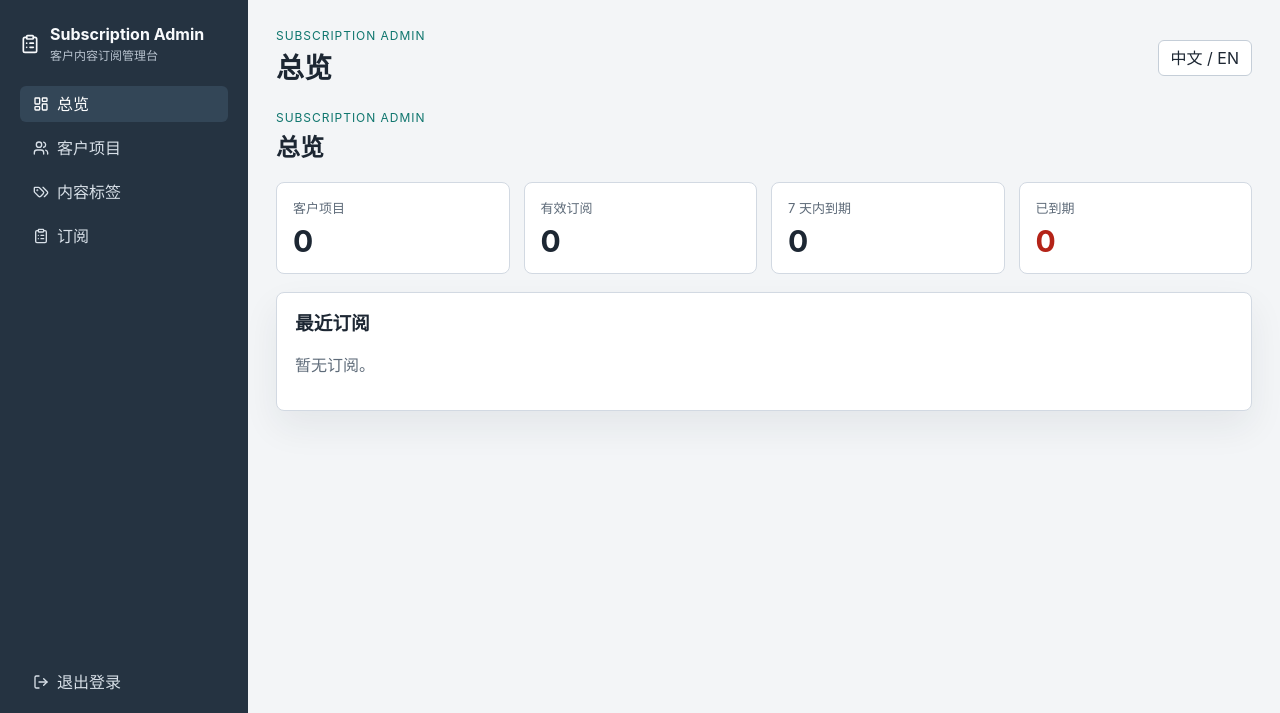
Test: filters subscriptions by search text and status while showing countdowns
The image size is (1280, 713).
Click the button "订阅".
click(124, 236)  # box [20,218,228,254]
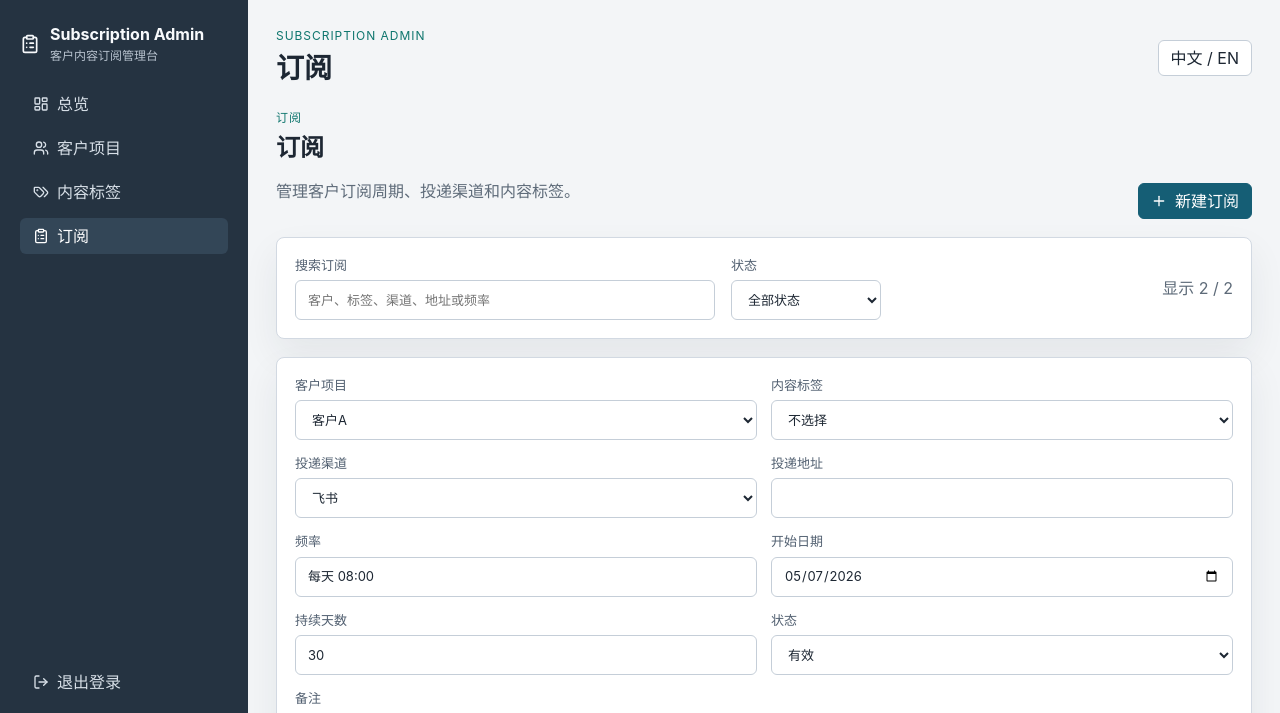
Type "飞书" into the field labelled "搜索订阅".
click(505, 300); type("飞书")  # box [295,280,715,320]
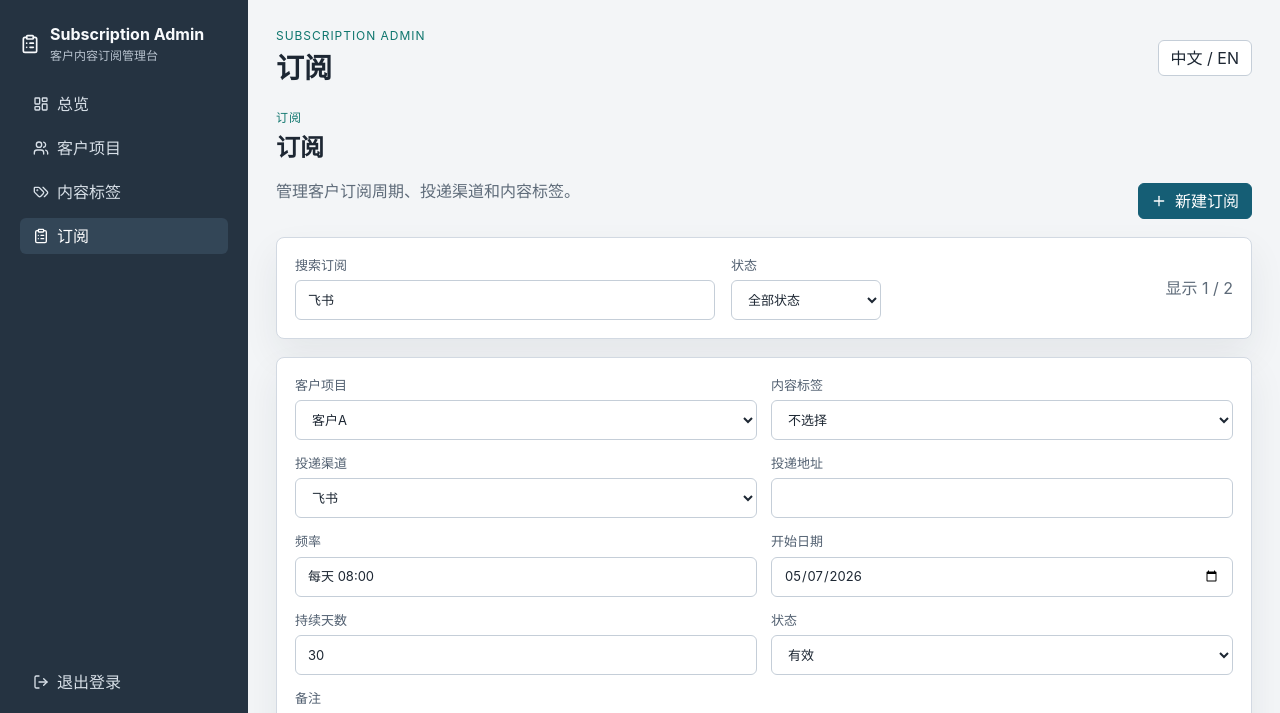
Clear the field labelled "搜索订阅" at (505, 300), box [295,280,715,320]
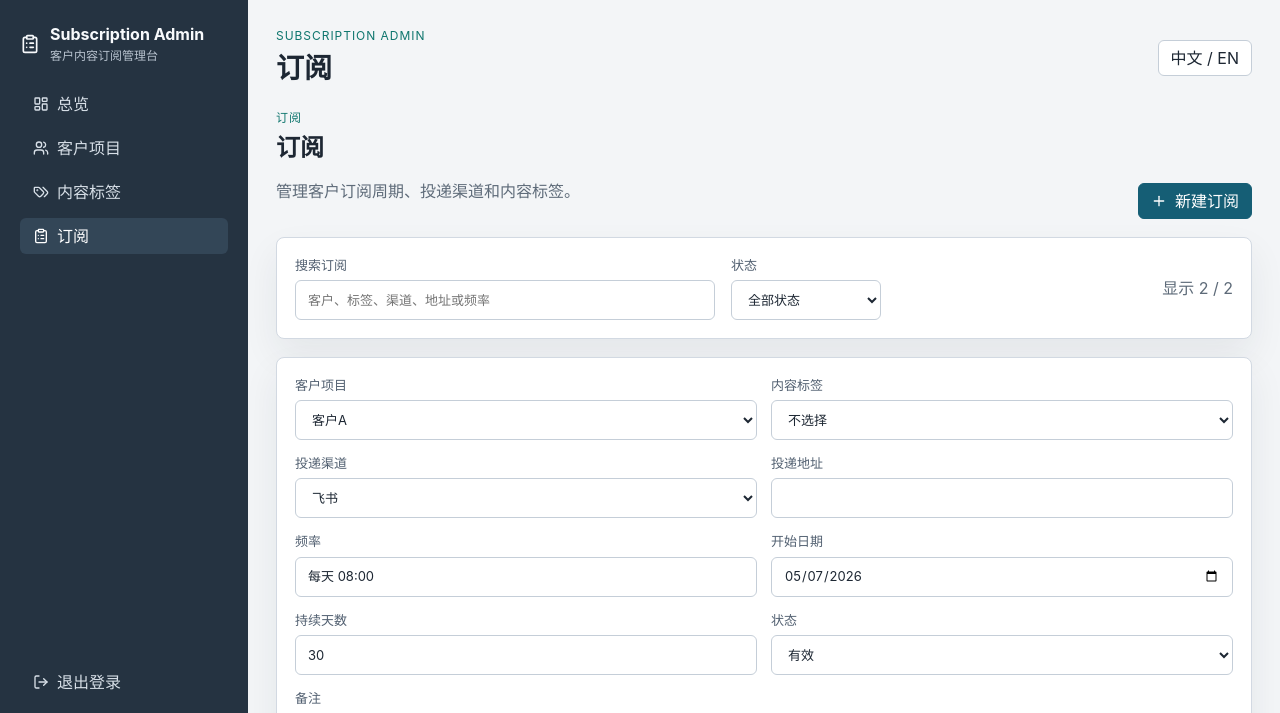
Select "已到期" in the dropdown named "订阅状态筛选" at (806, 300), box [731,280,881,320]
(page scrolled)
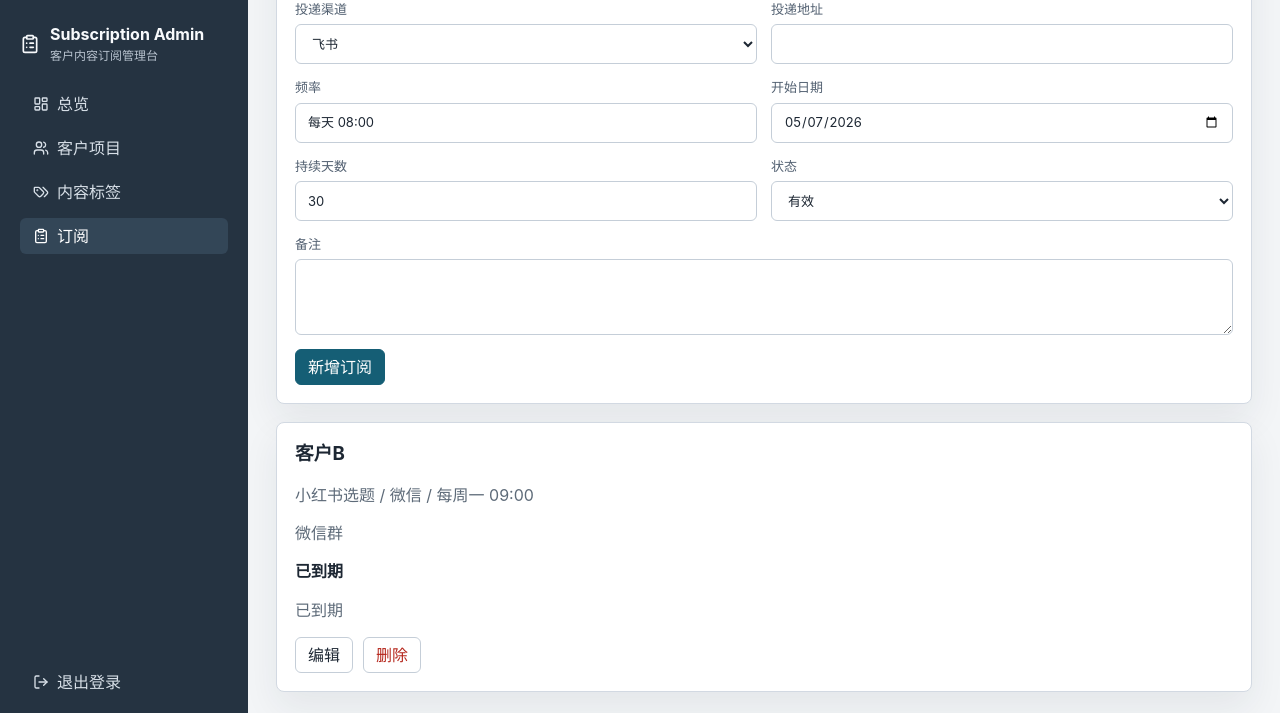
expect the element with test id "subscription-2" is shown: met, box [276,422,1252,692]
expect the text "已到期" is shown 2 times: met, box [295,561,343,581]; [295,600,343,620]
